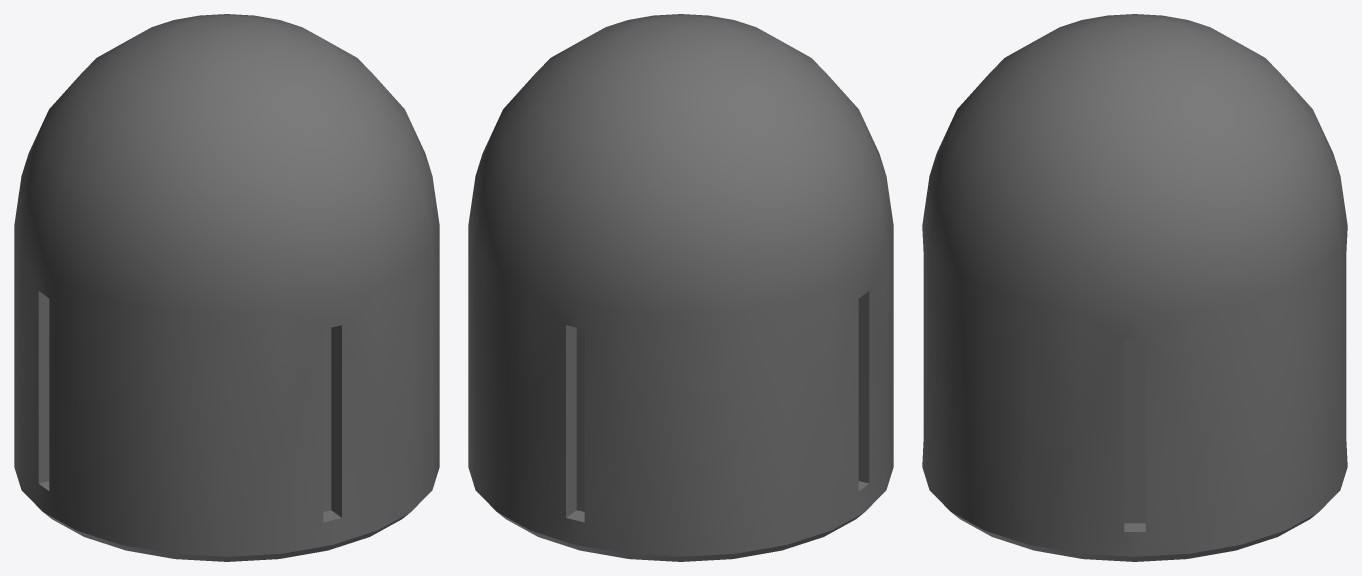
Rendered from Alnair_Control_1.obj.
The picture shows the model from 3 angles, left to right: view 1: azimuth 30°, elevation 25°; view 2: azimuth 150°, elevation 25°; view 3: azimuth 270°, elevation 25°; orthographic projection.
Parts seen in each view (by area): view 1: Alnair_Control_1; view 2: Alnair_Control_1; view 3: Alnair_Control_1.
Part boxes in pixels (x1,y1,x2,y2): Alnair_Control_1: [14, 14, 439, 561]; Alnair_Control_1: [468, 14, 893, 561]; Alnair_Control_1: [922, 14, 1347, 561].
Size of the model in its own units: 0.5 by 0.575 by 0.5.
